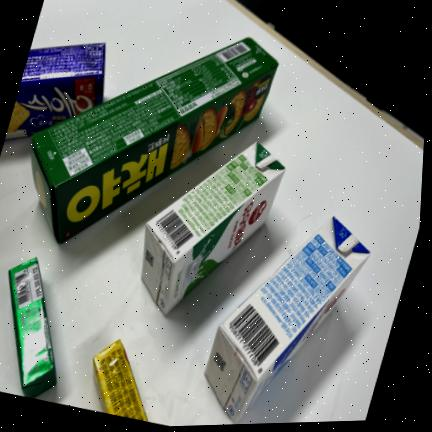cracker_ace: (4, 42, 105, 141)
cracker_vege: (32, 37, 278, 245)
gum_green: (7, 256, 56, 397)
gum_yellow: (91, 338, 148, 420)
milk_blue: (205, 217, 370, 424)
milk_green: (140, 141, 286, 317)
